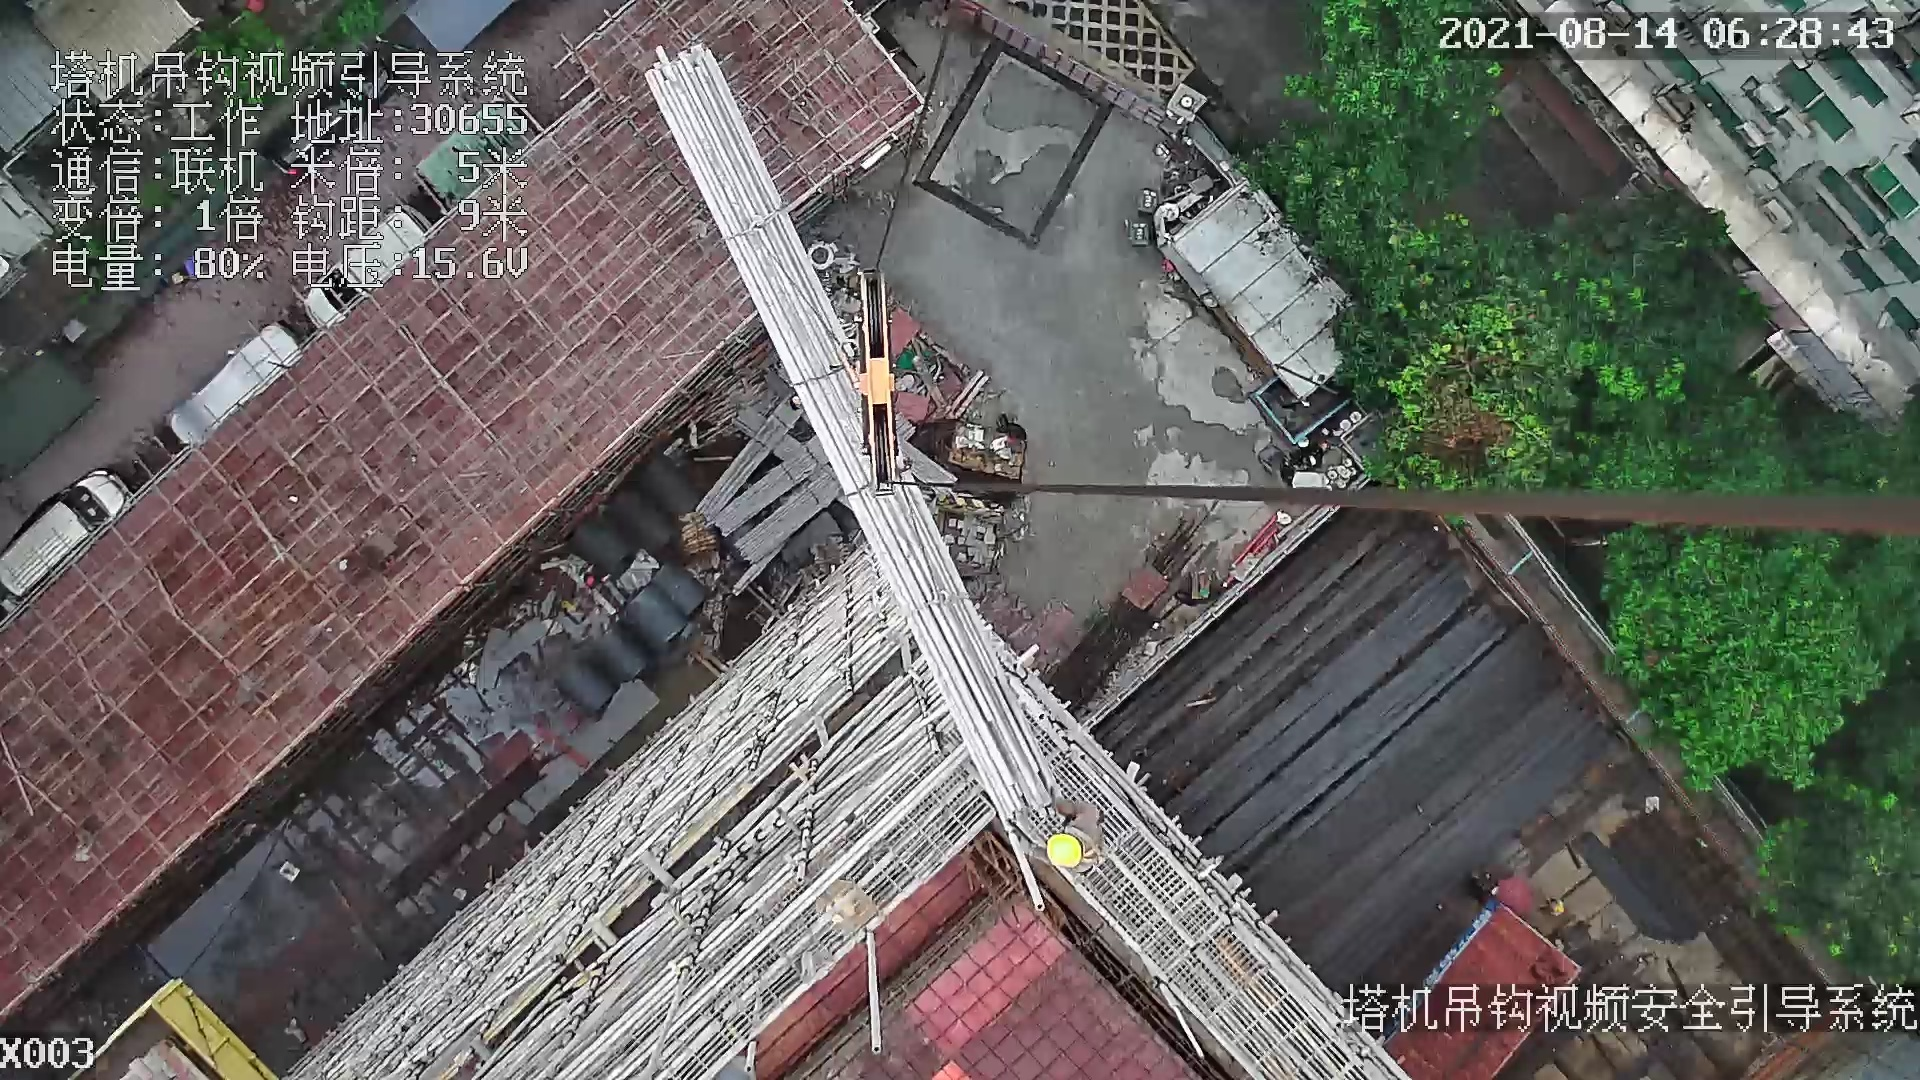helmet: (1039, 825, 1090, 869)
hook: (856, 265, 904, 496)
person: (1028, 800, 1112, 879)
